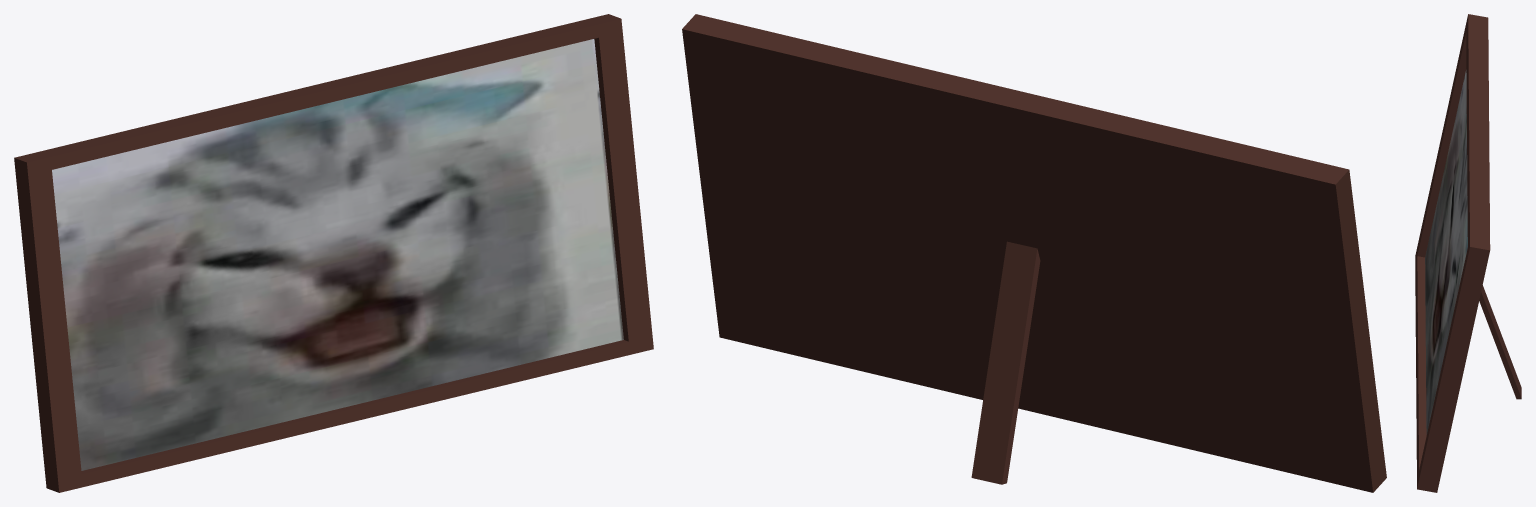
The model's file is Picture.fbx.
The picture shows the model from 3 angles, left to right: view 1: azimuth 30°, elevation 25°; view 2: azimuth 150°, elevation 25°; view 3: azimuth 270°, elevation 25°; orthographic projection. The views are drawn at different scales.
Parts seen in each view (by area): view 1: Picture, Frame; view 2: Frame, Cube; view 3: Frame, Picture, Cube.
Boxes of the visible parts, x1,y1,x2,y2 form: Picture: [52, 39, 623, 470]; Frame: [14, 14, 653, 492]; Frame: [682, 14, 1386, 492]; Cube: [971, 241, 1040, 484]; Frame: [1415, 14, 1490, 492]; Picture: [1425, 70, 1467, 434]; Cube: [1479, 285, 1521, 399].
Size of the model in its own units: 801 by 428 by 156.
